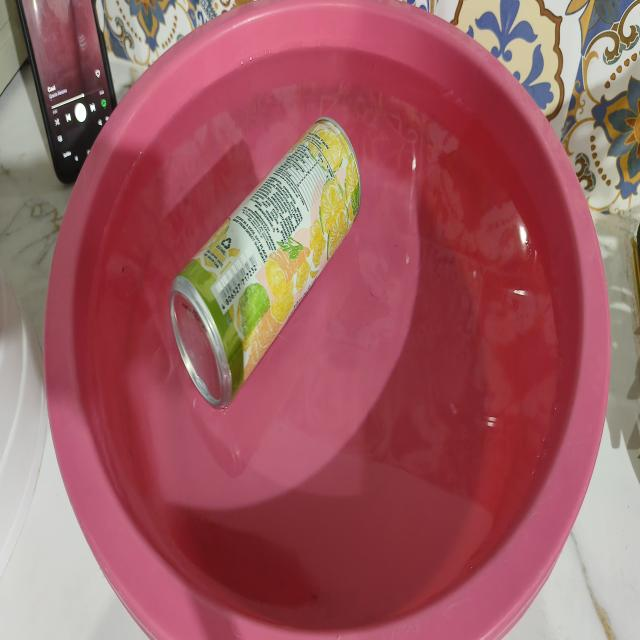Aluminum Can: (170, 118, 361, 405)
